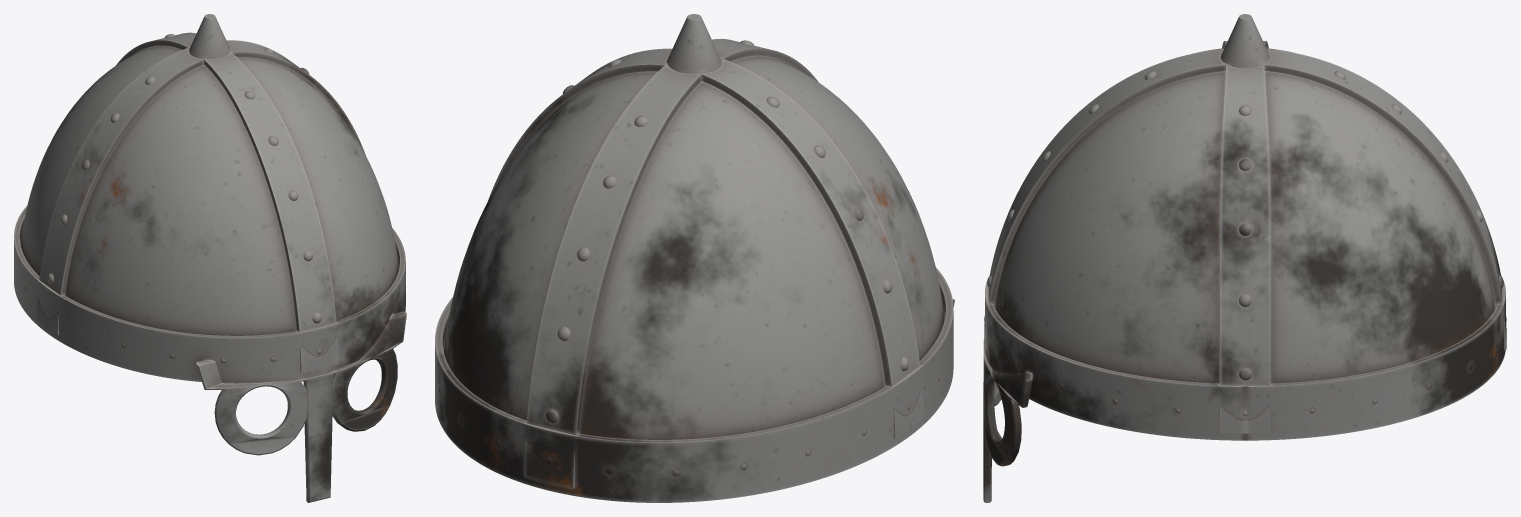
File: spangenhelm.glb
3 views of the same model, side by side, from view 1: azimuth 30°, elevation 25°; view 2: azimuth 150°, elevation 25°; view 3: azimuth 270°, elevation 25° (orthographic). The views are drawn at different scales.
Parts seen in each view (by area): view 1: spangenhelm; view 2: spangenhelm; view 3: spangenhelm.
Part boxes in pixels (box(x1,y1,x2,y2)): spangenhelm: box(14, 14, 406, 502); spangenhelm: box(435, 14, 954, 502); spangenhelm: box(983, 14, 1506, 502).
Size of the model in its own units: 0.2108 by 0.2502 by 0.2473.
1 material, 1 textured.
